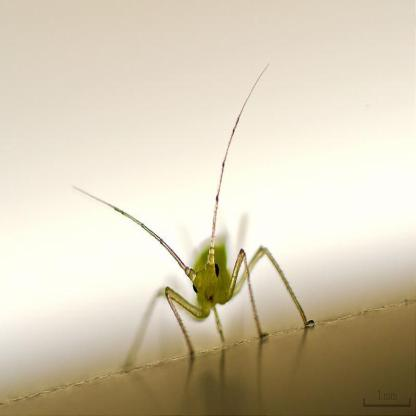aphid: (102, 102, 313, 350)
